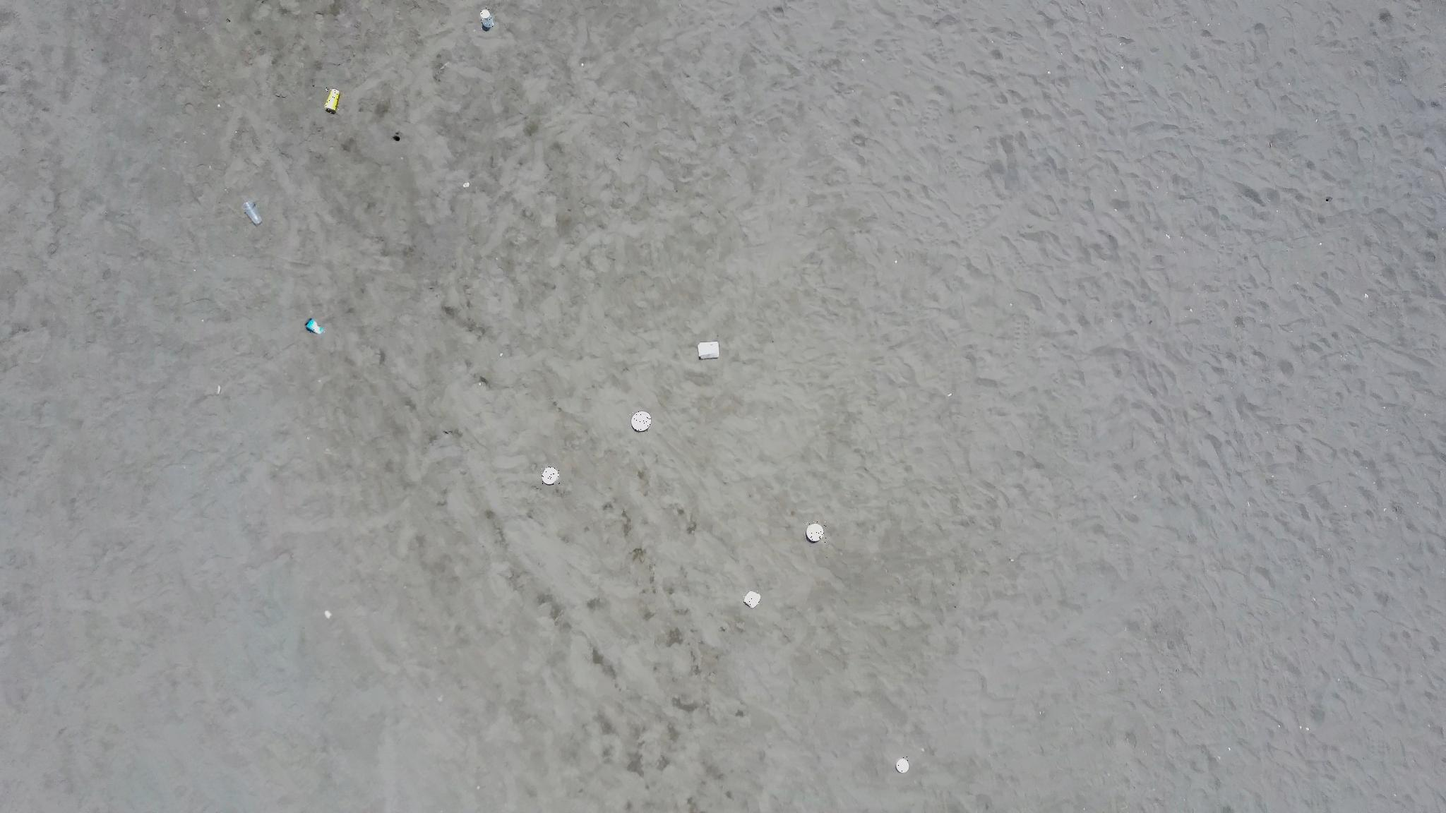Garbage: (323, 88, 340, 113), (244, 201, 261, 224), (631, 411, 651, 430), (698, 340, 718, 357), (479, 8, 494, 30), (541, 466, 559, 484), (806, 523, 823, 542), (743, 590, 760, 608), (306, 318, 323, 335), (895, 757, 909, 773), (392, 132, 400, 140), (323, 610, 330, 618), (462, 181, 469, 187)
